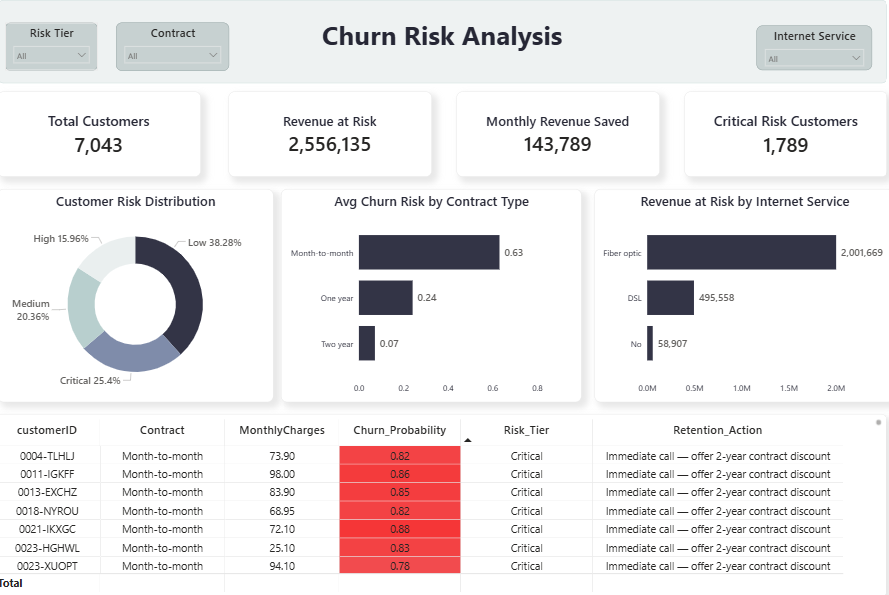

What the dashboard file says about the page in this screenshot:
{"tool":"powerbi","page":{"name":"Page 1","canvas":[1500,1000],"ordinal":0},"visuals":[{"type":"cardVisual","fields":{"Data":["Count(churn_scored.customerID)"]},"box":[30.6,164.5,330.6,138.7],"z":0},{"type":"cardVisual","fields":{"Data":["Sum(churn_scored.Revenue_At_Risk)"]},"box":[408.1,164.5,330.6,138.7],"z":1000},{"type":"cardVisual","fields":{"Data":["Count(churn_scored.customerID)"]},"box":[1148.4,164.5,330.6,138.7],"z":2000},{"type":"donutChart","title":"Customer Risk Distribution","fields":{"Category":["churn_scored.Risk_Tier"],"Y":["Count(churn_scored.customerID)"]},"box":[30.6,321,448.4,346.8],"z":3000},{"type":"barChart","title":"Avg Churn Risk by Contract Type","fields":{"Category":["churn_scored.Contract"],"Y":["Avg(churn_scored.Churn_Probability)"]},"box":[493.5,321,488.7,346.8],"z":4000},{"type":"barChart","title":"Revenue at Risk by Internet Service","fields":{"Y":["Sum(churn_scored.Revenue_At_Risk)"],"Category":["churn_scored.InternetService"]},"box":[1001.6,321,488,346.8],"z":5000},{"type":"tableEx","fields":{"Values":["churn_scored.customerID","churn_scored.Contract","churn_scored.MonthlyCharges","churn_scored.Churn_Probability","churn_scored.Risk_Tier","churn_scored.Retention_Action"]},"box":[17.7,688.7,1461.3,298.4],"z":6000},{"type":"cardVisual","fields":{"Data":["churn_scored.Monthly Revenue Saved"]},"box":[777.4,164.5,330.6,138.7],"z":7000},{"type":"textbox","box":[31.4,13.7,1447.1,135.3],"z":10000},{"type":"slicer","title":"Internet Service","fields":{"Values":["churn_scored.InternetService"]},"box":[1266.7,56.9,188.2,72.5],"z":11000},{"type":"slicer","title":"Risk Tier","fields":{"Values":["churn_scored.Risk_Tier"]},"box":[45.1,51,151,78.4],"z":11500},{"type":"slicer","title":"Contract","fields":{"Values":["churn_scored.Contract"]},"box":[223.5,51,184.3,78.4],"z":12000}]}

Visuals, with their boxes in screenshot pixels (x1, y1, x2, y2), scaled from the page's 1500x1000 canvas onto the 889x595 screenshot:
cardVisual - Count(churn_scored.customerID): select_region(18, 98, 214, 180)
cardVisual - Sum(churn_scored.Revenue_At_Risk): select_region(242, 98, 438, 180)
cardVisual - Count(churn_scored.customerID): select_region(681, 98, 877, 180)
"Customer Risk Distribution" donutChart: select_region(18, 191, 284, 397)
"Avg Churn Risk by Contract Type" barChart: select_region(292, 191, 582, 397)
"Revenue at Risk by Internet Service" barChart: select_region(594, 191, 883, 397)
tableEx - churn_scored.customerID x churn_scored.Contract: select_region(10, 410, 877, 587)
cardVisual - churn_scored.Monthly Revenue Saved: select_region(461, 98, 657, 180)
textbox: select_region(19, 8, 876, 89)
"Internet Service" slicer: select_region(751, 34, 862, 77)
"Risk Tier" slicer: select_region(27, 30, 116, 77)
"Contract" slicer: select_region(132, 30, 242, 77)
